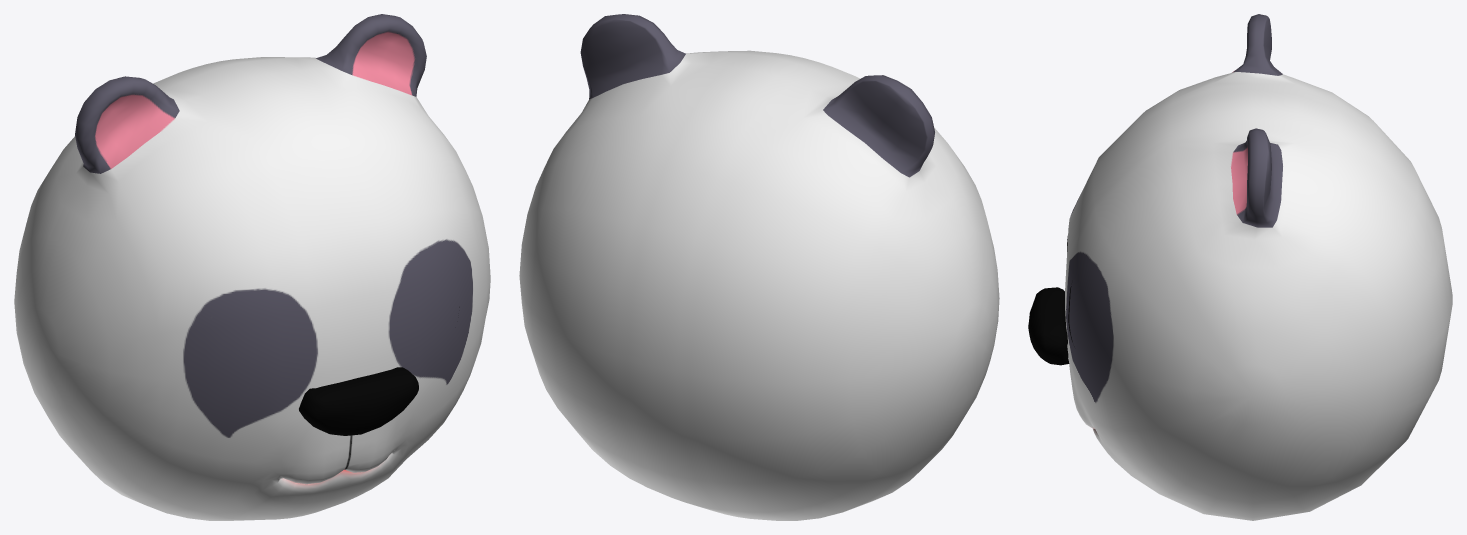
File: Panda.glb
The picture shows the model from 3 angles, left to right: view 1: azimuth 30°, elevation 25°; view 2: azimuth 150°, elevation 25°; view 3: azimuth 270°, elevation 25°; orthographic projection. The views are drawn at different scales.
Parts seen in each view (by area): view 1: Panda; view 2: Panda; view 3: Panda.
Part boxes in pixels (x1=…): Panda: x1=14, y1=14, x2=490, y2=520; Panda: x1=519, y1=14, x2=999, y2=520; Panda: x1=1028, y1=14, x2=1452, y2=520.
Size of the model in its own units: 0.00753 by 0.00765 by 0.00701.
Materials: 1 (1 with a texture image).
